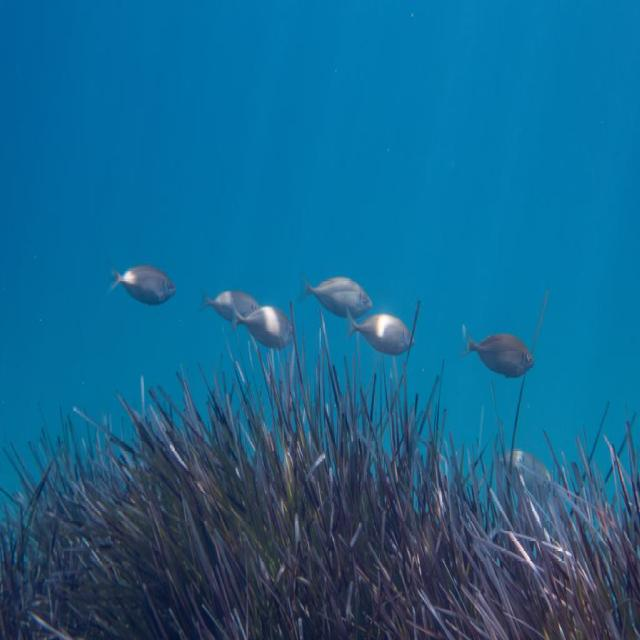Sokar Baligi: (452, 306, 543, 392), (102, 242, 185, 315)
